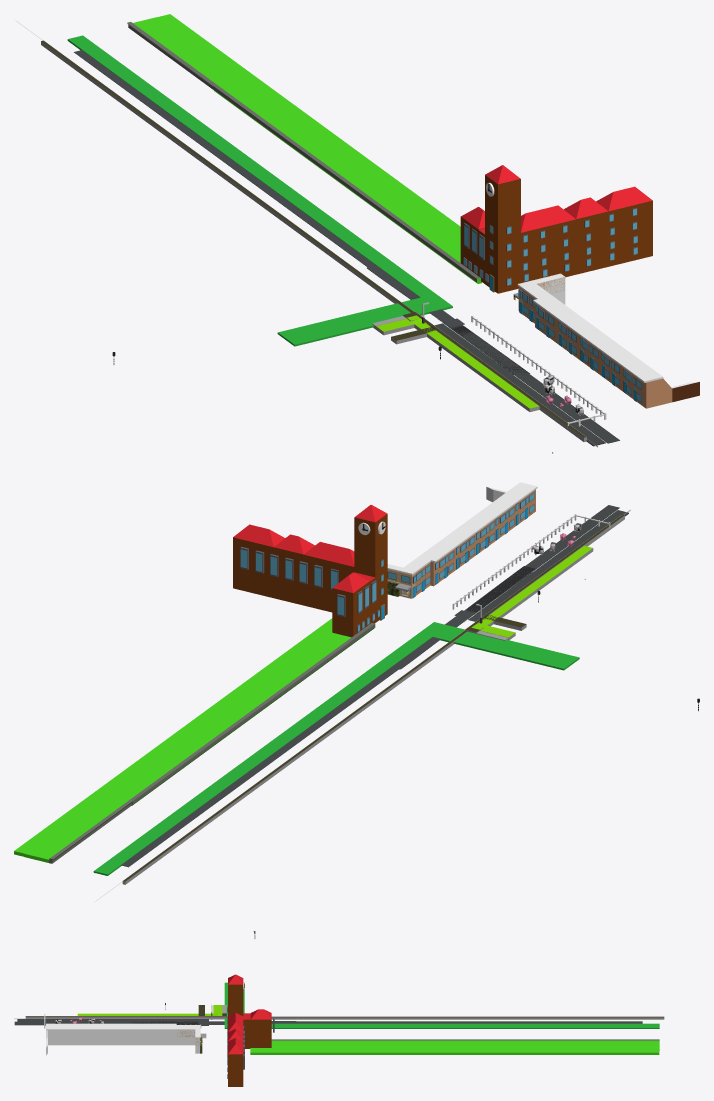
Rendered from Wijkv2.gltf.
The picture shows the model from 3 angles, top to bottom: view 1: azimuth 30°, elevation 25°; view 2: azimuth 150°, elevation 25°; view 3: azimuth 270°, elevation 25°; orthographic projection. The views are drawn at different scales.
Parts seen in each view (by area): view 1: Kubus, Kubus.038, Cube.062, Cube, Cube.013, Cube.019, Cube.017, Cube.018, Cube.056, Cube.055; view 2: Kubus, Kubus.038, Cube.062, Cube, Cube.017, Cube.019, Cube.013, Cube.055, Cube.056, Cube.047; view 3: Kubus, Cube, Kubus.038, Cube.062, Cube.019, Cube.017, Cube.013, Cube.056, Cube.055, Cube.018.
Part boxes in pixels (x1,y1,x2,y2): Kubus: (127,14,481,283); Kubus.038: (460,165,652,293); Cube.062: (67,35,452,346); Cube: (517,273,699,408); Cube.013: (372,312,586,441); Cube.019: (41,40,435,344); Cube.017: (74,50,454,321); Cube.018: (74,50,452,321); Cube.056: (452,328,619,443); Cube.055: (444,330,605,446); Kubus: (14,618,375,863); Kubus.038: (233,505,387,637); Cube.062: (93,622,579,875); Cube: (387,482,537,595); Cube.017: (121,616,467,867); Cube.019: (122,615,526,884); Cube.013: (465,514,624,640); Cube.055: (476,510,628,615); Cube.056: (466,505,619,612); Cube.047: (465,566,534,613); Kubus: (250,1039,659,1054); Cube: (46,1023,200,1055); Kubus.038: (228,974,271,1086); Cube.062: (224,982,659,1028); Cube.019: (198,1005,664,1019); Cube.017: (209,1021,642,1024); Cube.013: (25,1005,226,1019); Cube.056: (14,1021,197,1025); Cube.055: (17,1019,198,1021); Cube.018: (209,1021,642,1024).
Size of the model in its own units: 297 by 89.29 by 581.
